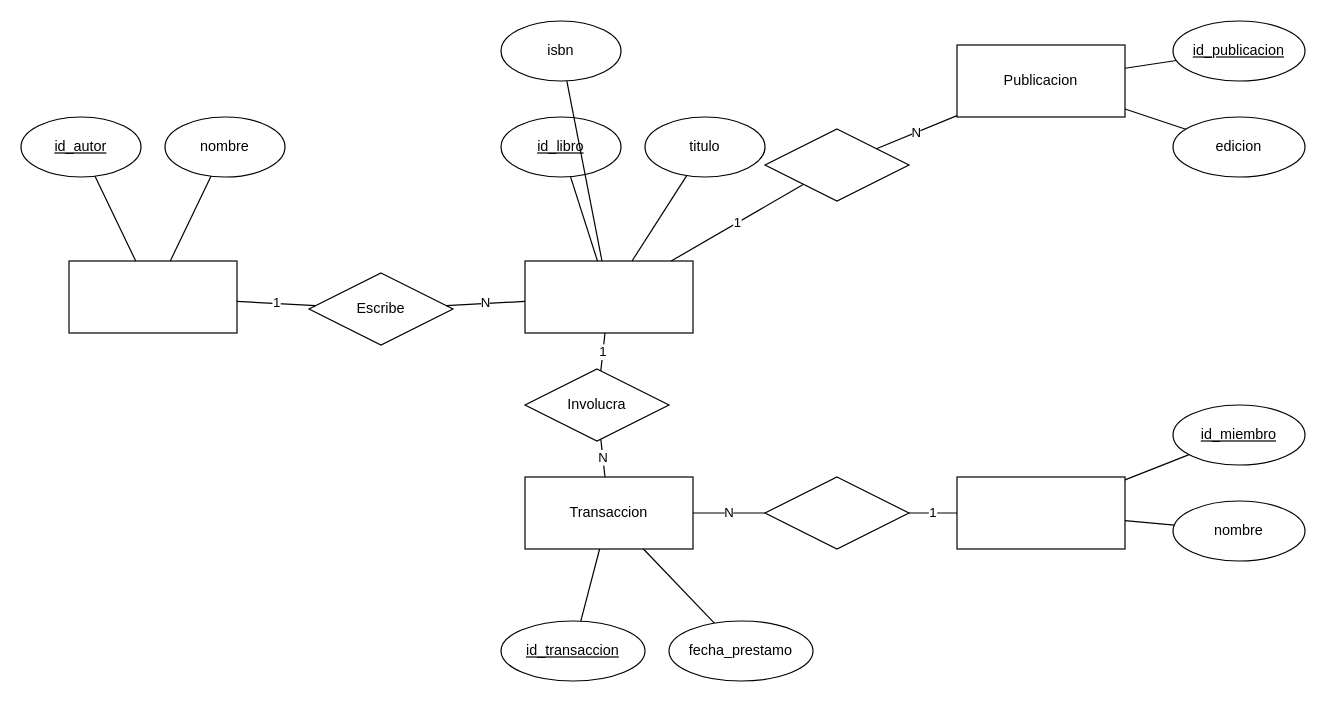
Image size: 1326x702. Some labels were removed from this diagram. Here are the shapes that lost their labels. From the top down, the centre of each, then its label:
At point (836, 164): "Tiene".
At point (152, 296): "Autor".
At point (608, 296): "Libro".
At point (836, 512): "Realiza".
At point (1040, 512): "Miembro".
